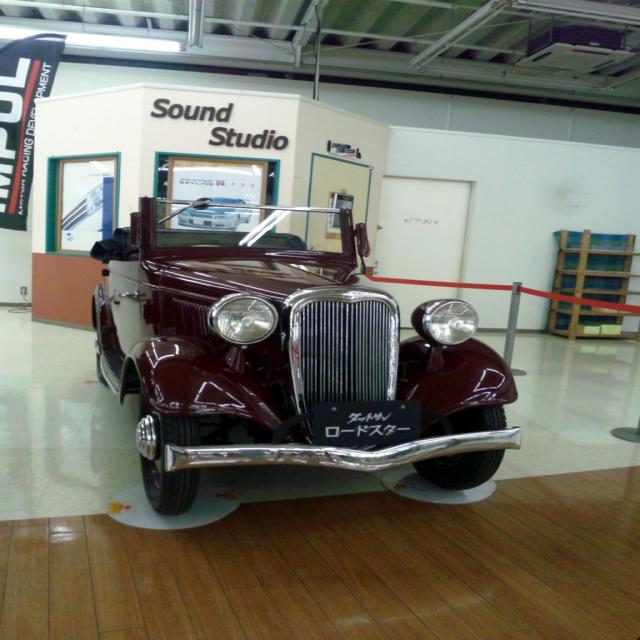other: (79, 168, 509, 530)
